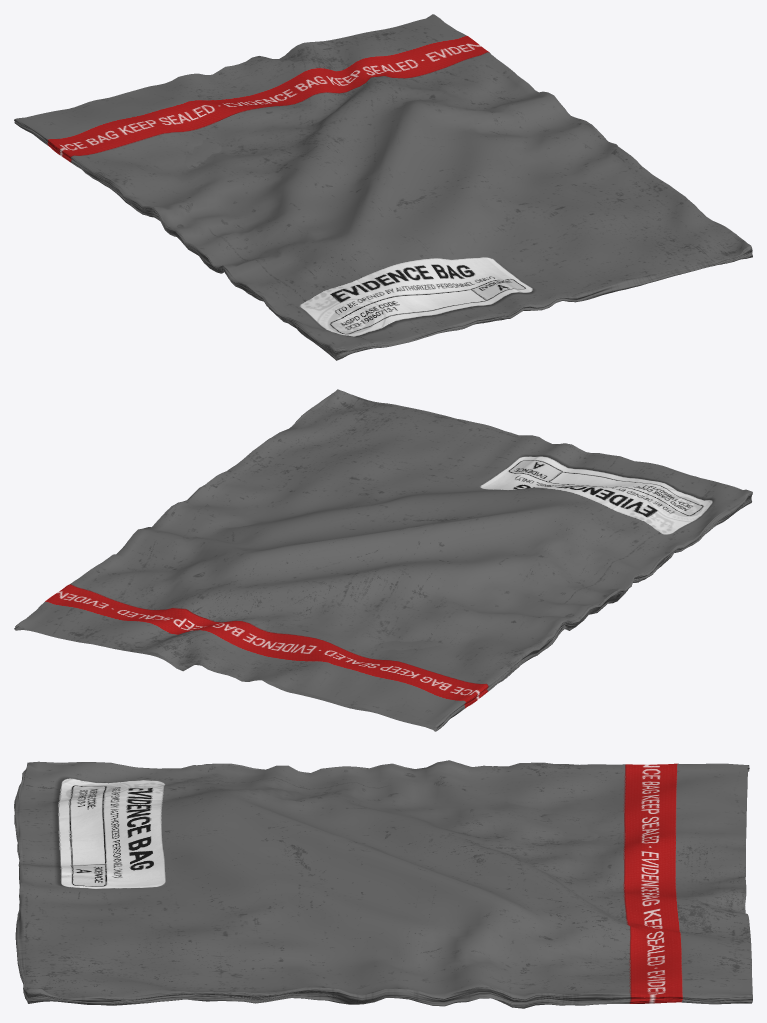
File: evidenceCig.fbx
The picture shows the model from 3 angles, top to bottom: view 1: azimuth 30°, elevation 25°; view 2: azimuth 150°, elevation 25°; view 3: azimuth 270°, elevation 25°; orthographic projection. The views are drawn at different scales.
Parts seen in each view (by area): view 1: Plane; view 2: Plane; view 3: Plane.
Boxes of the visible parts, x1,y1,x2,y2 form: Plane: [14, 14, 752, 360]; Plane: [14, 389, 752, 731]; Plane: [14, 760, 752, 1008].
Size of the model in its own units: 1144 by 98.94 by 1519.
4 materials, 3 textured.
